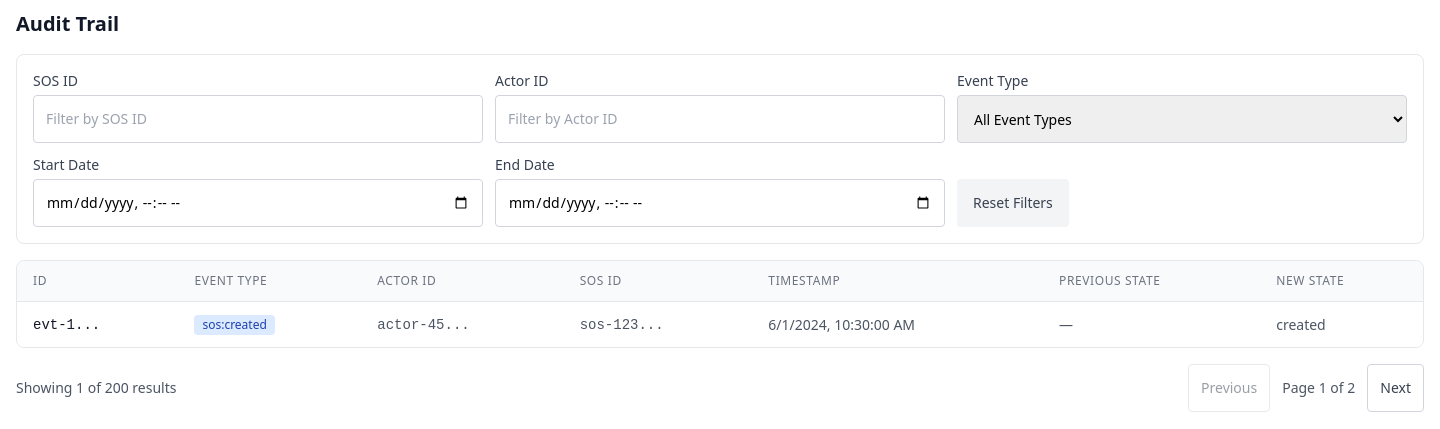
it: AuditTrailView › navigates to next page when next button is clicked
Expected: the navigation bar with test id "audit-pagination" is shown, [16,364,1424,412]
Click the button with test id "btn-next-page": (1396, 388) [1367,364,1424,412]
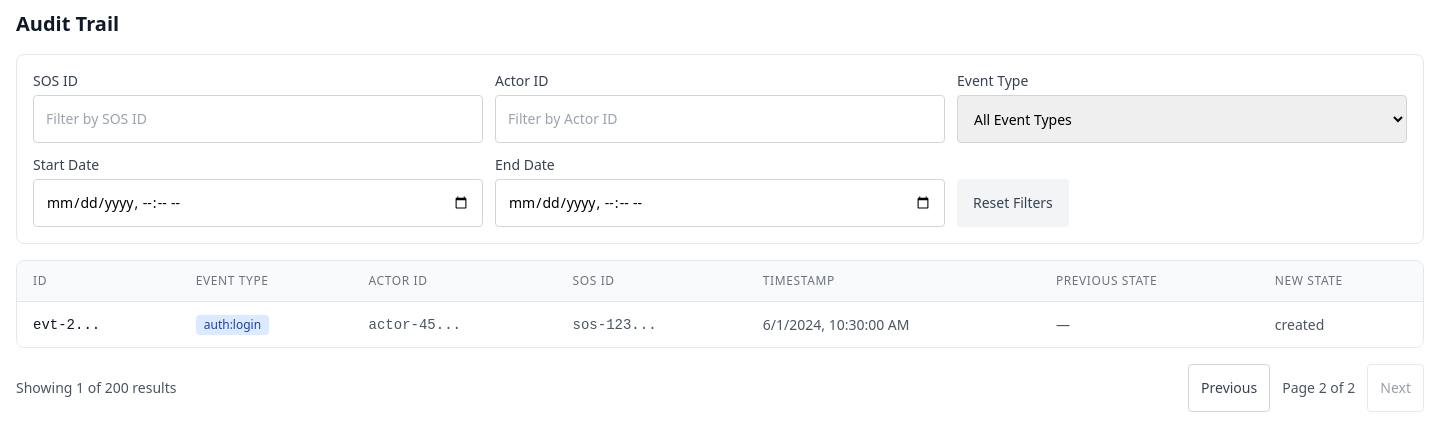
Expected: the row with test id "audit-row-evt-2" is shown, [17,302,1423,347]
Expected: the text with test id "page-indicator" reads "Page 2 of 2", [1282,378,1355,398]
